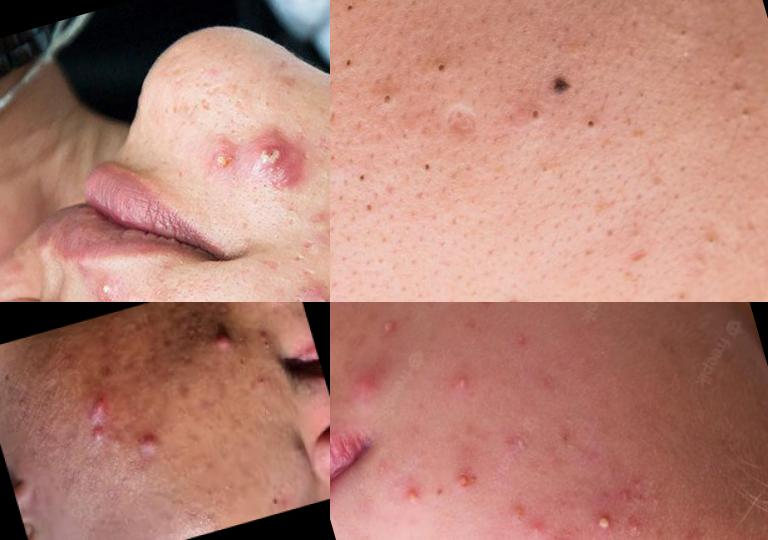acne_scars: (442, 100, 485, 158), (617, 227, 667, 275)
blackhead: (713, 40, 768, 131), (331, 1, 443, 29), (654, 1, 704, 58), (504, 93, 554, 143), (570, 102, 619, 151), (404, 145, 453, 188), (363, 80, 405, 124), (426, 46, 465, 91), (688, 219, 730, 260), (331, 47, 364, 80), (504, 1, 554, 18)
cystic: (67, 383, 123, 432), (132, 427, 169, 465), (210, 327, 241, 358)
papular: (333, 349, 397, 418), (511, 503, 560, 540), (71, 421, 118, 457)
purulent: (389, 472, 435, 518), (440, 454, 487, 494), (366, 307, 411, 348), (204, 136, 243, 183), (581, 500, 624, 540), (88, 273, 136, 303), (448, 368, 479, 402), (298, 282, 331, 303), (263, 303, 287, 309)
sebo-crystan-conglo: (228, 115, 318, 202)
whitehead: (599, 476, 644, 521), (499, 322, 541, 360), (498, 427, 538, 466), (639, 483, 669, 519), (617, 511, 653, 540), (468, 303, 505, 318), (341, 529, 381, 540), (542, 531, 584, 540)
